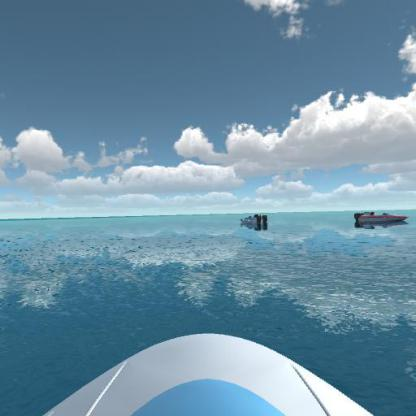usv1: (238, 209, 272, 232)
usv3: (350, 206, 411, 232)
